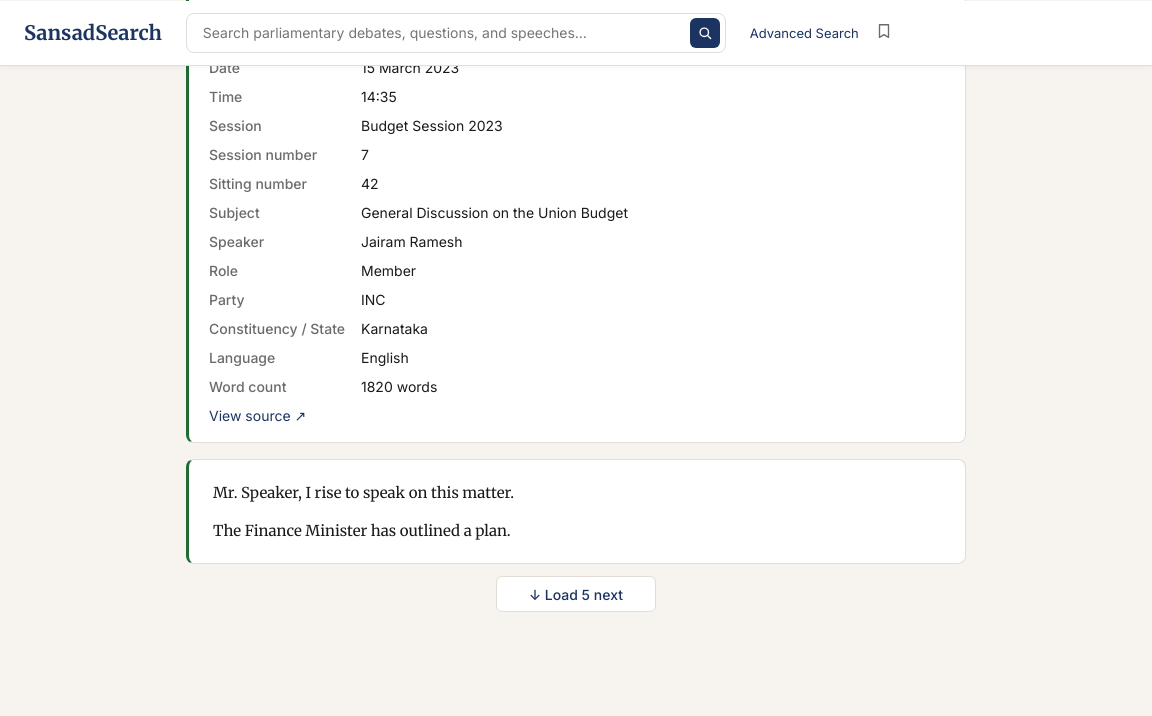
Scenario: RecordDetail — adjacent record content rendering › loaded speech adjacent record renders speaker, date, subject, proceeding type, and full text
(page scrolled)
Click the button with test id "load-next-button": (576,594) [496, 576, 656, 612]
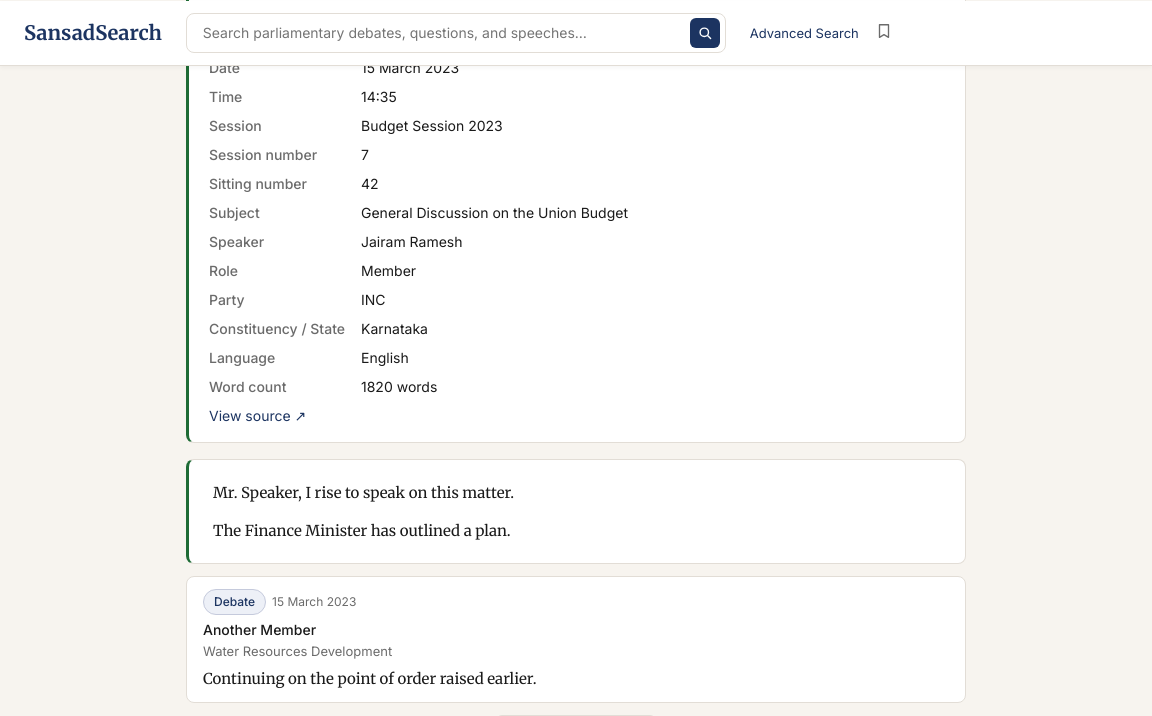
expect the element with test id "adjacent-record-speech-adj-1" is shown: met, box [186, 576, 966, 703]
expect the text "Another Member" is shown: met, box [203, 621, 316, 638]
expect the 2nd text "15 March 2023" is shown: met, box [272, 593, 356, 611]
